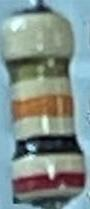Black: (13, 133, 83, 160)
Orange: (13, 93, 73, 123)
Red: (12, 169, 85, 194)
Side-Gold: (4, 53, 70, 86)
